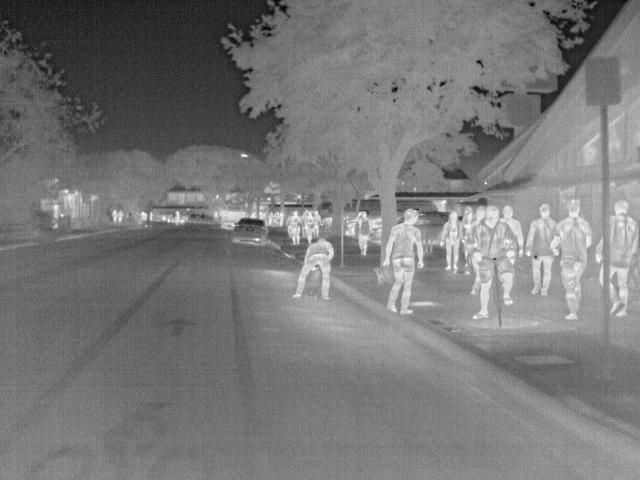car: (412, 208, 449, 249), (230, 216, 268, 246), (367, 227, 382, 244)
person: (463, 207, 518, 318), (552, 200, 594, 322), (381, 208, 427, 313), (608, 197, 638, 318), (523, 203, 559, 294), (293, 238, 332, 300), (437, 212, 466, 272), (498, 206, 527, 257), (352, 210, 369, 257), (303, 209, 319, 243), (287, 211, 302, 243), (109, 208, 119, 223), (173, 209, 181, 226), (116, 210, 124, 224)
